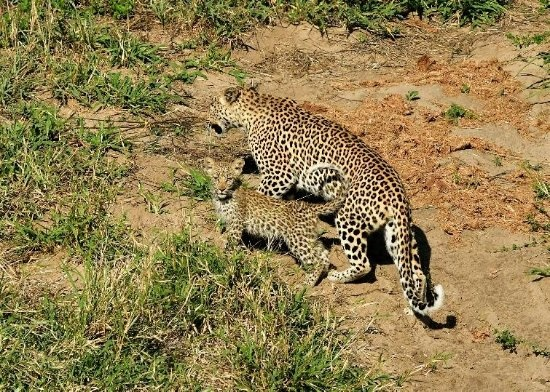leopard: (205, 77, 445, 312), (198, 155, 349, 291)
